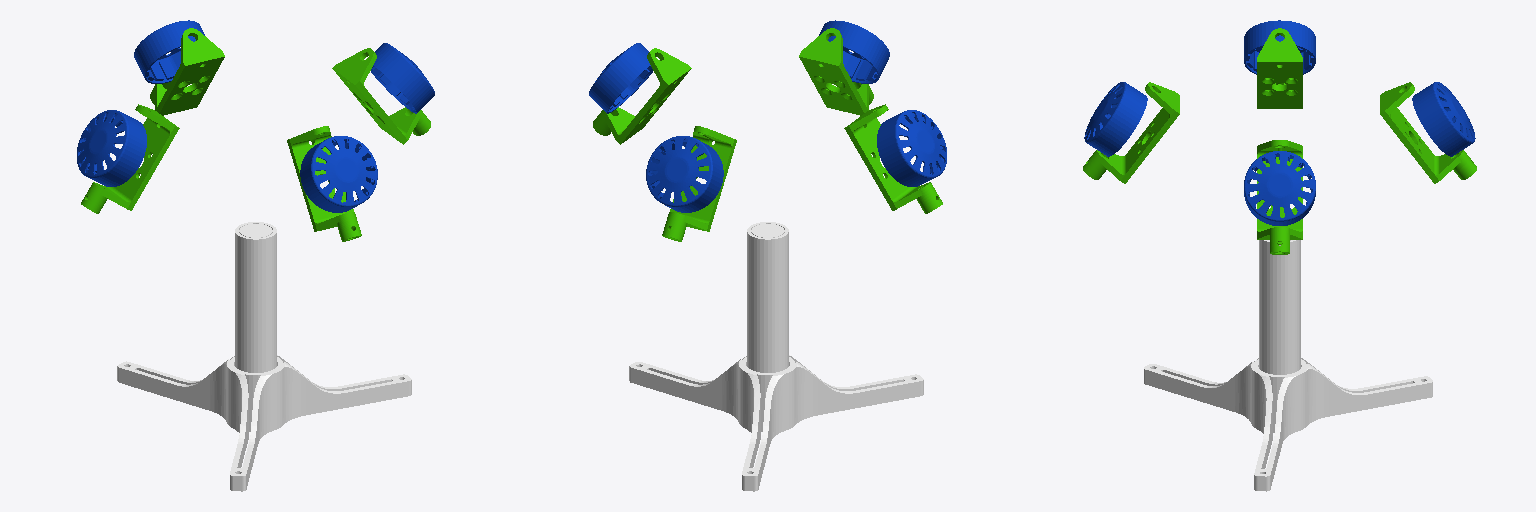
robot.urdf — vscmg:
<?xml version="1.0" encoding="UTF-8"?>
<robot  xmlns:xacro="http://www.ros.org/wiki/xacro" name="vscmg">

    <link name="world"></link>
    <link name="b1"></link>
    <link name="b2"></link>

    <material name="blue">
        <color rgba="0 0 0.8 1" />
    </material>

    <material name="platform_color">
        <color rgba="0.9 0.8 0.7 1.0" />
    </material>

    <material name="tripod_color">
        <color rgba="1.0 1.0 1.0 1.0" />
    </material>

    <material name="gimbal_color">
        <color rgba="0.3 0.8 0.05 1.0" />
    </material>

    <material name="rw_color">
        <color rgba="0.1 0.32 0.78 1.0" />
    </material>

    <!-- Triapod link -->
    <link name="tripod">
        <inertial>
            <origin xyz="0.0 0.0 0.0" rpy="0.0 0.0 0.0" />
            <mass value="0.0" />
            <inertia ixx="0.0" ixy="0.0" ixz="0.0" iyy="0.0" iyz="0.0" izz="0.0" />
        </inertial>
        <visual name="">
            <origin xyz="0.0 0.0 0.05" rpy="0.0 0.0 0.0" />
            <geometry>
                <mesh filename="package://vscmg_description/meshes/tripod.stl" scale="0.001 0.001 0.001" />
            </geometry>
            <material name="tripod_color" />
        </visual>
        <collision>
            <origin xyz="0.0 0.0 0.05" rpy="0.0 0.0 0.0" />
            <geometry>
                <mesh filename="package://vscmg_description/meshes/tripod.stl" scale="0.001 0.001 0.001" />
            </geometry>
        </collision>
    </link>


    <link name="platform">
        <inertial>
            <origin xyz="0.0 0.0 0.0" rpy="0.0 0.0 0.0" />
            <mass value="0.0" />
            <inertia ixx="0.0" ixy="0.0" ixz="0.0" iyy="0.0" iyz="0.0" izz="0.0" />
        </inertial>
        <visual name="">
            <origin xyz="0.0 0.0 0.05" rpy="0.0 0.0 0.0" />
            <geometry>
                <mesh filename="package://vscmg_description/meshes/base.stl" scale="0.001 0.001 0.001" />
            </geometry>
            <material name="platform_color" />
        </visual>
        <collision>
            <origin xyz="0.0 0.0 0.05" rpy="0.0 0.0 0.0" />
            <geometry>
                <mesh filename="package://vscmg_description/meshes/base.stl" scale="0.001 0.001 0.001" />
            </geometry>
        </collision>
    </link>

    <!-- fixed joint from world to tripod -->
    <joint name="world_to_tripod" type="fixed">
        <origin xyz="0.0 0.0 0.0" rpy="0.0 0.0 0.0" />
        <parent link="world" />
        <child link="tripod" />
    </joint>


    <!-- Spherical joint from tripod to platform -->
    <joint name="yaw" type="continuous">
        <origin xyz="0.0 0.0 0.0" rpy="0.0 0.0 0.0" />
        <parent link="tripod" />
        <child link="b1" />
        <axis xyz="0.0 0.0 1.0" />
    </joint>
    <joint name="pitch" type="revolute">
        <origin xyz="0.0 0.0 0.0" rpy="0.0 0.0 0.0" />
        <parent link="b1" />
        <child link="b2" />
        <axis xyz="0.0 1.0 0.0" />
        <limit lower="-0.5235" upper="0.5235" effort="0.0" velocity="0.0" />
    </joint>
    <joint name="roll" type="revolute">
        <origin xyz="0.0 0.0 0.0" rpy="0.0 0.0 0.0" />
        <parent link="b2" />
        <child link="platform" />
        <axis xyz="1.0 0.0 0.0" />
        <limit lower="-0.5235" upper="0.5235" effort="0.0" velocity="0.0" />
    </joint>

    <!-- Gimbal 1 link -->
    <link name="gimbal_frame_1">
        <inertial>
            <origin xyz="0.0 0.0 0.0" rpy="0.0 0.0 0.0" />
            <mass value="0.0" />
            <inertia ixx="0.0" ixy="0.0" ixz="0.0" iyy="0.0" iyz="0.0" izz="0.0" />
        </inertial>
        <visual name="">
            <origin xyz="0.0 0.0032 -0.0142" rpy="0.0 0.0 0.0" />
            <geometry>
                <mesh filename="package://vscmg_description/meshes/gimbal.stl" scale="0.001 0.001 0.001" />
            </geometry>
            <material name="gimbal_color" />
        </visual>
        <collision>
            <origin xyz="0.0 0.0032 -0.0142" rpy="0.0 0.0 0.0" />
            <geometry>
                <mesh filename="package://vscmg_description/meshes/gimbal.stl" scale="0.001 0.001 0.001" />
            </geometry>
        </collision>
    </link>

    <joint name="gimbal_1" type="continuous">
        <origin xyz="0.0 0.074 0.058" rpy="-0.9553 0.0 0.0" />
        <parent link="platform" />
        <child link="gimbal_frame_1" />
        <axis xyz="0.0 1.0 0.0" />
        <limit lower="0.0" upper="0.0" effort="0.0" velocity="0.0" />
    </joint>

    <!-- Gimbal 2 link -->
    <link name="gimbal_frame_2">
        <inertial>
            <origin xyz="0.0 0.0 0.0" rpy="0.0 0.0 0.0" />
            <mass value="0.0" />
            <inertia ixx="0.0" ixy="0.0" ixz="0.0" iyy="0.0" iyz="0.0" izz="0.0" />
        </inertial>
        <visual name="">
            <origin xyz="0.0 0.0032 -0.0142" rpy="0.0 0.0 0.0" />
            <geometry>
                <mesh filename="package://vscmg_description/meshes/gimbal.stl" scale="0.001 0.001 0.001" />
            </geometry>
            <material name="gimbal_color" />
        </visual>
        <collision>
            <origin xyz="0.0 0.0032 -0.0142" rpy="0.0 0.0 0.0" />
            <geometry>
                <mesh filename="package://vscmg_description/meshes/gimbal.stl" scale="0.001 0.001 0.001" />
            </geometry>
        </collision>
    </link>

    <joint name="gimbal_2" type="continuous">
        <origin xyz="-0.074 0.0 0.058" rpy="-0.9553 0.0 1.5707963267948966" />
        <parent link="platform" />
        <child link="gimbal_frame_2" />
        <axis xyz="0.0 1.0 0.0" />
        <limit lower="0.0" upper="0.0" effort="0.0" velocity="0.0" />
    </joint>


    <!-- Gimbal 3 link -->
    <link name="gimbal_frame_3">
        <inertial>
            <origin xyz="0.0 0.0 0.0" rpy="0.0 0.0 0.0" />
            <mass value="0.0" />
            <inertia ixx="0.0" ixy="0.0" ixz="0.0" iyy="0.0" iyz="0.0" izz="0.0" />
        </inertial>
        <visual name="">
            <origin xyz="0.0 0.0032 -0.0142" rpy="0.0 0.0 0.0" />
            <geometry>
                <mesh filename="package://vscmg_description/meshes/gimbal.stl" scale="0.001 0.001 0.001" />
            </geometry>
            <material name="gimbal_color" />
        </visual>
        <collision>
            <origin xyz="0.0 0.0032 -0.0142" rpy="0.0 0.0 0.0" />
            <geometry>
                <mesh filename="package://vscmg_description/meshes/gimbal.stl" scale="0.001 0.001 0.001" />
            </geometry>
        </collision>
    </link>

    <joint name="gimbal_3" type="continuous">
        <origin xyz="0.0 -0.074 0.058" rpy="-0.9553 0.0 3.141592653589793" />
        <parent link="platform" />
        <child link="gimbal_frame_3" />
        <axis xyz="0.0 1.0 0.0" />
        <limit lower="0.0" upper="0.0" effort="0.0" velocity="0.0" />
    </joint>


    <!-- Gimbal 4 link -->
    <link name="gimbal_frame_4">
        <inertial>
            <origin xyz="0.0 0.0 0.0" rpy="0.0 0.0 0.0" />
            <mass value="0.0" />
            <inertia ixx="0.0" ixy="0.0" ixz="0.0" iyy="0.0" iyz="0.0" izz="0.0" />
        </inertial>
        <visual name="">
            <origin xyz="0.0 0.0032 -0.0142" rpy="0.0 0.0 0.0" />
            <geometry>
                <mesh filename="package://vscmg_description/meshes/gimbal.stl" scale="0.001 0.001 0.001" />
            </geometry>
            <material name="gimbal_color" />
        </visual>
        <collision>
            <origin xyz="0.0 0.0032 -0.0142" rpy="0.0 0.0 0.0" />
            <geometry>
                <mesh filename="package://vscmg_description/meshes/gimbal.stl" scale="0.001 0.001 0.001" />
            </geometry>
        </collision>
    </link>

    <joint name="gimbal_4" type="continuous">
        <origin xyz="0.074 0.0 0.058" rpy="-0.9553 0.0 -1.5707963267948966" />
        <parent link="platform" />
        <child link="gimbal_frame_4" />
        <axis xyz="0.0 1.0 0.0" />
        <limit lower="0.0" upper="0.0" effort="0.0" velocity="0.0" />
    </joint>


    <link name="rw_frame_1">
        <inertial>
            <origin xyz="0.0 0.0 0.0" rpy="0.0 0.0 0.0" />
            <mass value="0.0" />
            <inertia ixx="0.0" ixy="0.0" ixz="0.0" iyy="0.0" iyz="0.0" izz="0.0" />
        </inertial>
        <visual name="">
            <origin xyz="0.0 0.0 0.0" rpy="0.0 0.0 0.0" />
            <geometry>
                <mesh filename="package://vscmg_description/meshes/rw1.stl" scale="0.001 0.001 0.001" />
            </geometry>
            <material name="rw_color" />
        </visual>
        <collision>
            <origin xyz="0.0 0.0 0.0" rpy="0.0 0.0 0.0" />
            <geometry>
                <box size="0.0 0.0 0.0" />
            </geometry>
        </collision>
    </link>

    <joint name="rw_1" type="continuous">
        <origin xyz="0.0 0.0 0.0" rpy="0.0 0.0 0" />
        <parent link="gimbal_frame_1" />
        <child link="rw_frame_1" />
        <axis xyz="0.0 0.0 1.0" />
        <limit lower="0.0" upper="0.0" effort="0.0" velocity="0.0" />
    </joint>


    <link name="rw_frame_2">
        <inertial>
            <origin xyz="0.0 0.0 0.0" rpy="0.0 0.0 0.0" />
            <mass value="0.0" />
            <inertia ixx="0.0" ixy="0.0" ixz="0.0" iyy="0.0" iyz="0.0" izz="0.0" />
        </inertial>
        <visual name="">
            <origin xyz="0.0 0.0 0.0" rpy="0.0 0.0 0.0" />
            <geometry>
                <mesh filename="package://vscmg_description/meshes/rw1.stl" scale="0.001 0.001 0.001" />
            </geometry>
            <material name="rw_color" />
        </visual>
        <collision>
            <origin xyz="0.0 0.0 0.0" rpy="0.0 0.0 0.0" />
            <geometry>
                <box size="0.0 0.0 0.0" />
            </geometry>
        </collision>
    </link>

    <joint name="rw_2" type="continuous">
        <origin xyz="0.0 0.0 0.0" rpy="0.0 0.0 0" />
        <parent link="gimbal_frame_2" />
        <child link="rw_frame_2" />
        <axis xyz="0.0 0.0 1.0" />
        <limit lower="0.0" upper="0.0" effort="0.0" velocity="0.0" />
    </joint>


    <link name="rw_frame_3">
        <inertial>
            <origin xyz="0.0 0.0 0.0" rpy="0.0 0.0 0.0" />
            <mass value="0.0" />
            <inertia ixx="0.0" ixy="0.0" ixz="0.0" iyy="0.0" iyz="0.0" izz="0.0" />
        </inertial>
        <visual name="">
            <origin xyz="0.0 0.0 0.0" rpy="0.0 0.0 0.0" />
            <geometry>
                <mesh filename="package://vscmg_description/meshes/rw1.stl" scale="0.001 0.001 0.001" />
            </geometry>
            <material name="rw_color" />
        </visual>
        <collision>
            <origin xyz="0.0 0.0 0.0" rpy="0.0 0.0 0.0" />
            <geometry>
                <box size="0.0 0.0 0.0" />
            </geometry>
        </collision>
    </link>

    <joint name="rw_3" type="continuous">
        <origin xyz="0.0 0.0 0.0" rpy="0.0 0.0 0" />
        <parent link="gimbal_frame_3" />
        <child link="rw_frame_3" />
        <axis xyz="0.0 0.0 1.0" />
        <limit lower="0.0" upper="0.0" effort="0.0" velocity="0.0" />
    </joint>


    <link name="rw_frame_4">
        <inertial>
            <origin xyz="0.0 0.0 0.0" rpy="0.0 0.0 0.0" />
            <mass value="0.0" />
            <inertia ixx="0.0" ixy="0.0" ixz="0.0" iyy="0.0" iyz="0.0" izz="0.0" />
        </inertial>
        <visual name="">
            <origin xyz="0.0 0.0 0.0" rpy="0.0 0.0 0.0" />
            <geometry>
                <mesh filename="package://vscmg_description/meshes/rw1.stl" scale="0.001 0.001 0.001" />
            </geometry>
            <material name="rw_color" />
        </visual>
        <collision>
            <origin xyz="0.0 0.0 0.0" rpy="0.0 0.0 0.0" />
            <geometry>
                <box size="0.0 0.0 0.0" />
            </geometry>
        </collision>
    </link>

    <joint name="rw_4" type="continuous">
        <origin xyz="0.0 0.0 0.0" rpy="0.0 0.0 0" />
        <parent link="gimbal_frame_4" />
        <child link="rw_frame_4" />
        <axis xyz="0.0 0.0 1.0" />
        <limit lower="0.0" upper="0.0" effort="0.0" velocity="0.0" />
    </joint>
</robot>

--- Facts derived from the render (not from the file) ---
The picture shows the robot from 3 angles, left to right: view 1: azimuth 30°, elevation 25°; view 2: azimuth 150°, elevation 25°; view 3: azimuth 270°, elevation 25°; orthographic projection.
Model vscmg with 13 links and 12 joints (2 revolute, 9 continuous, 1 fixed), rooted at world, posed every joint at zero.
Visible links, largest first — view 1: tripod, rw_frame_3, rw_frame_2, gimbal_frame_1, gimbal_frame_2, gimbal_frame_4, rw_frame_4, rw_frame_1, gimbal_frame_3; view 2: tripod, rw_frame_1, rw_frame_2, gimbal_frame_3, gimbal_frame_2, gimbal_frame_4, rw_frame_4, rw_frame_3, gimbal_frame_1; view 3: tripod, rw_frame_4, gimbal_frame_2, rw_frame_1, rw_frame_3, gimbal_frame_1, gimbal_frame_3, rw_frame_2, gimbal_frame_4.
Boxes of the visible links, x1,y1,x2,y2 form: tripod: [117, 222, 411, 491]; rw_frame_3: [300, 136, 377, 212]; rw_frame_2: [77, 110, 146, 186]; gimbal_frame_1: [150, 28, 224, 115]; gimbal_frame_2: [81, 104, 179, 213]; gimbal_frame_4: [332, 48, 430, 144]; rw_frame_4: [371, 43, 434, 113]; rw_frame_1: [134, 20, 204, 83]; gimbal_frame_3: [287, 126, 361, 241]; tripod: [629, 222, 923, 491]; rw_frame_1: [646, 136, 723, 212]; rw_frame_2: [877, 110, 946, 186]; gimbal_frame_3: [799, 28, 873, 115]; gimbal_frame_2: [844, 104, 942, 213]; gimbal_frame_4: [593, 48, 691, 144]; rw_frame_4: [589, 43, 652, 113]; rw_frame_3: [819, 20, 889, 83]; gimbal_frame_1: [662, 126, 736, 241]; tripod: [1144, 240, 1432, 491]; rw_frame_4: [1244, 151, 1315, 225]; gimbal_frame_2: [1257, 28, 1302, 108]; rw_frame_1: [1412, 82, 1475, 156]; rw_frame_3: [1084, 82, 1147, 156]; gimbal_frame_1: [1380, 82, 1476, 183]; gimbal_frame_3: [1083, 82, 1179, 183]; rw_frame_2: [1244, 20, 1315, 74]; gimbal_frame_4: [1257, 140, 1302, 254].
Bounding box of the posed robot: 0.1913 × 0.1913 × 0.1806 m (x, y, z).
9 mesh visuals loaded from 4 distinct referenced files (3 binary STL); not drawn: 1 (reference not matched to a file when rendering).